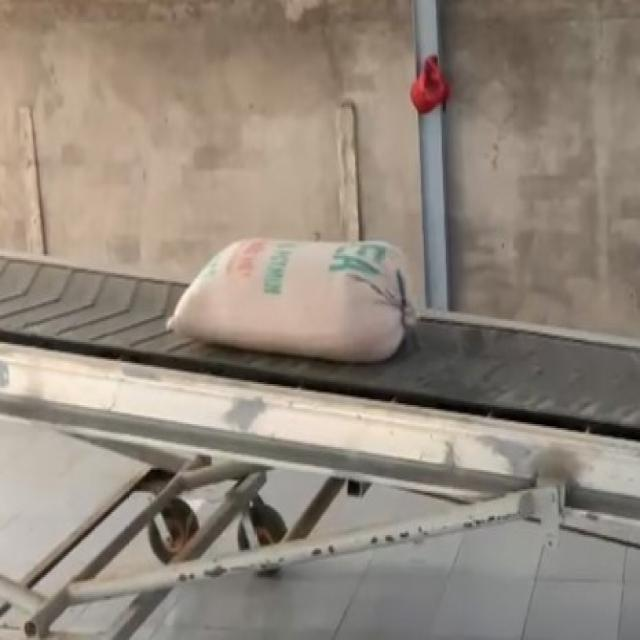gunny_bag: (168, 243, 410, 362)
